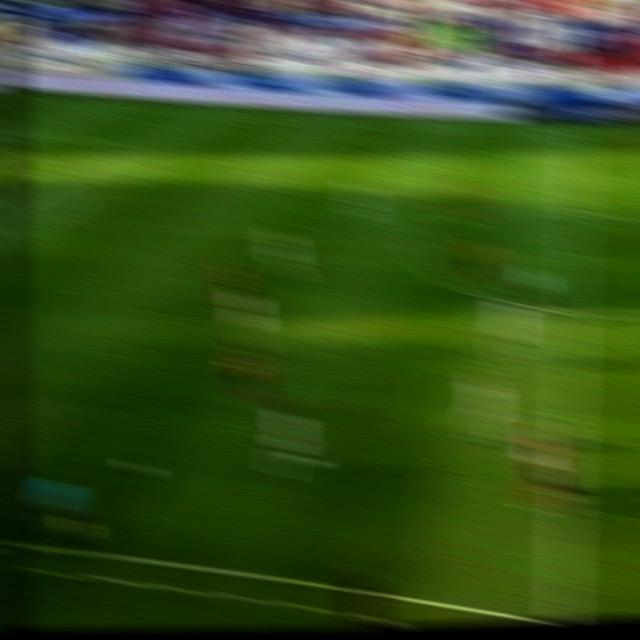bigarea_top_inner: (107, 129, 142, 154)
corner: (1, 88, 32, 107)
halfcircle_bottom: (551, 293, 593, 332)
halfcircle_top: (554, 194, 595, 228)
midline_bottom_intersection: (539, 598, 584, 622)
midline_top_intersection: (560, 120, 595, 147)
top_arc_area_intersection: (34, 165, 76, 194)
